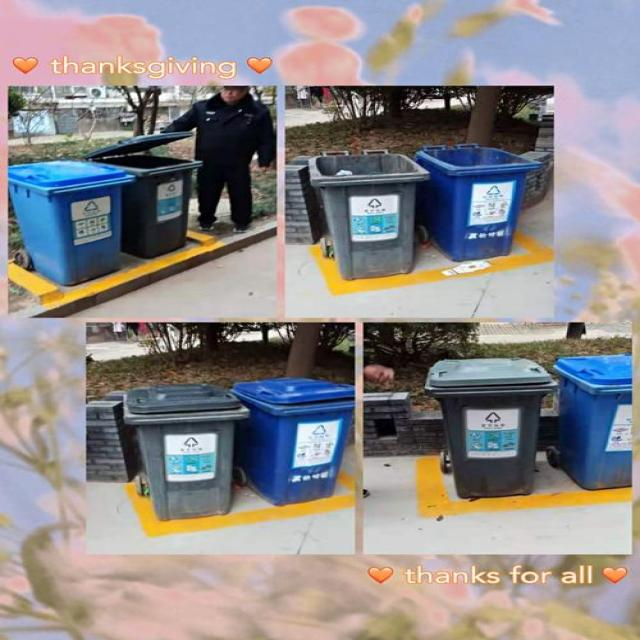garbage_bin: (424, 356, 556, 496), (122, 383, 247, 519), (307, 147, 426, 280), (228, 376, 353, 502), (414, 141, 540, 260), (12, 162, 133, 285), (99, 154, 201, 258), (554, 355, 631, 488)
